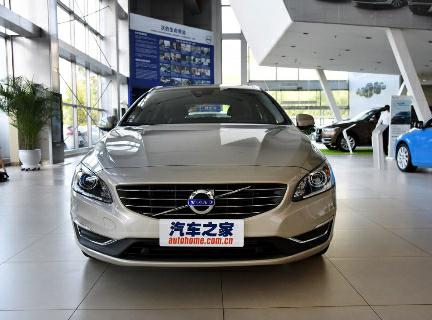沃尔沃-V60: (67, 82, 341, 278)
